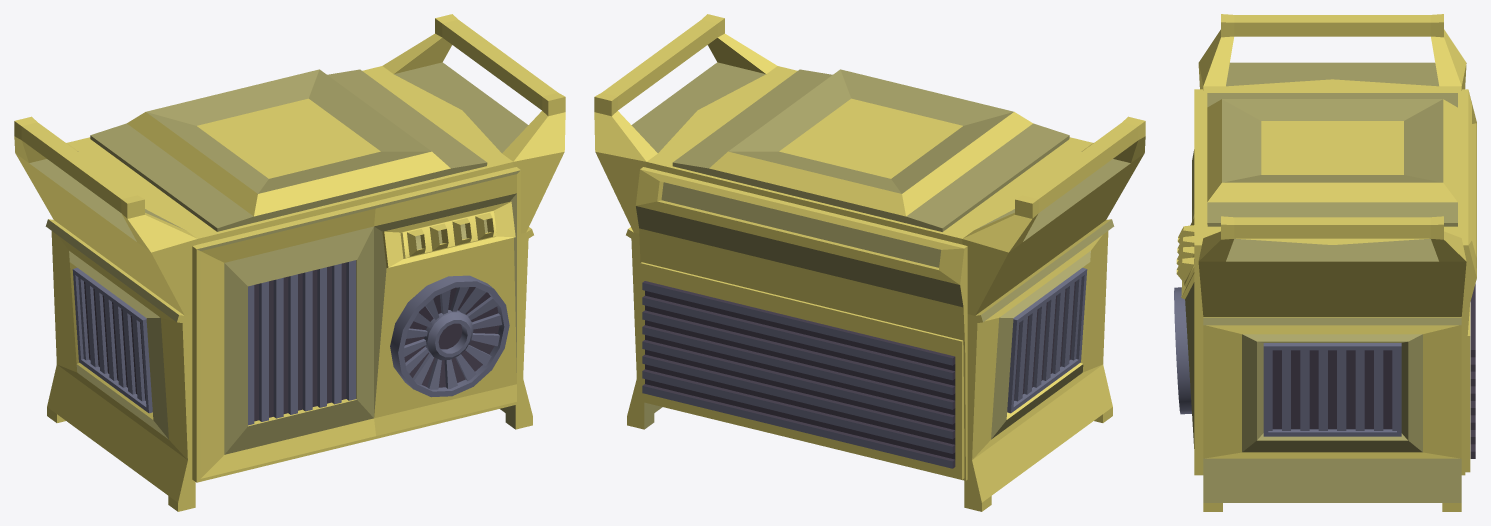
File: LAMPGENERATOR.fbx
3 views of the same model, side by side, from view 1: azimuth 30°, elevation 25°; view 2: azimuth 150°, elevation 25°; view 3: azimuth 270°, elevation 25° (orthographic).
Visible parts, largest first — view 1: Cube.002; view 2: Cube.002; view 3: Cube.002.
Part boxes in pixels (box(x1,y1,x2,y2)): Cube.002: box(14, 14, 565, 511); Cube.002: box(594, 14, 1145, 511); Cube.002: box(1174, 14, 1476, 511).
Size of the model in its own units: 785 by 534 by 477.
